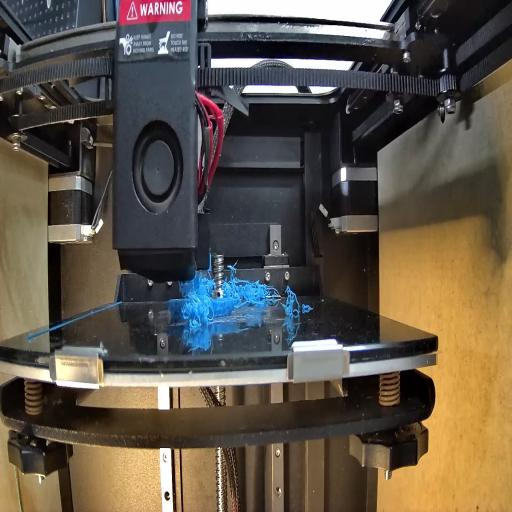spaghetti: (222, 274, 280, 307), (185, 274, 214, 334), (283, 284, 299, 318)
